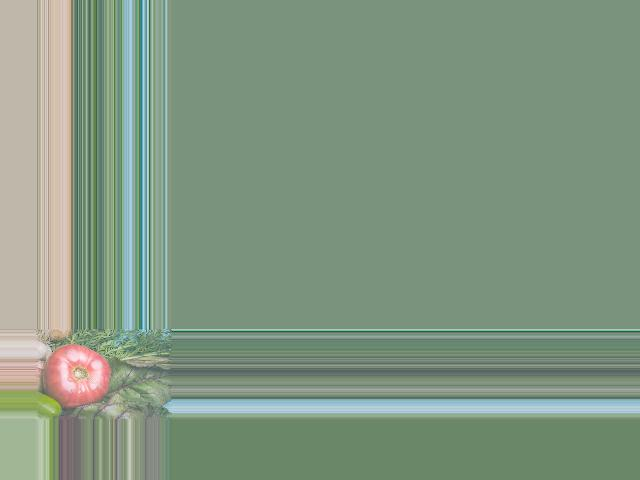tomato: (41, 344, 110, 409)
